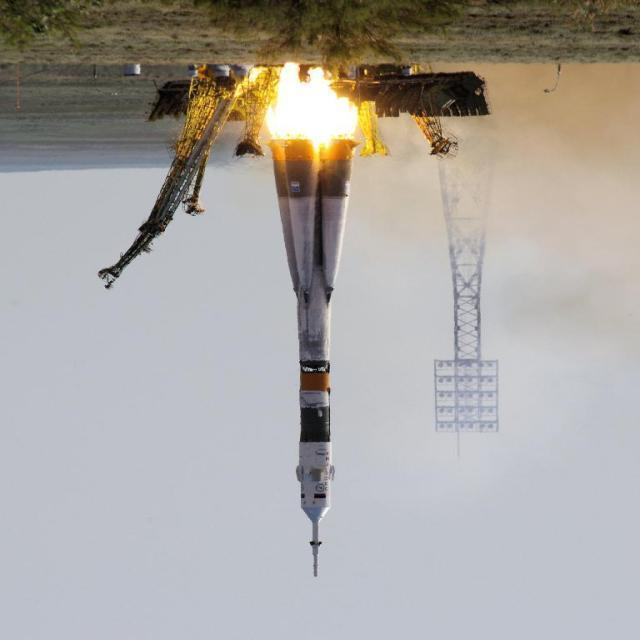missile: (262, 132, 354, 575)
